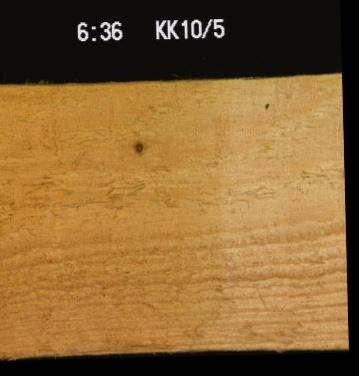small_knot: (130, 135, 144, 157), (259, 96, 270, 111)
